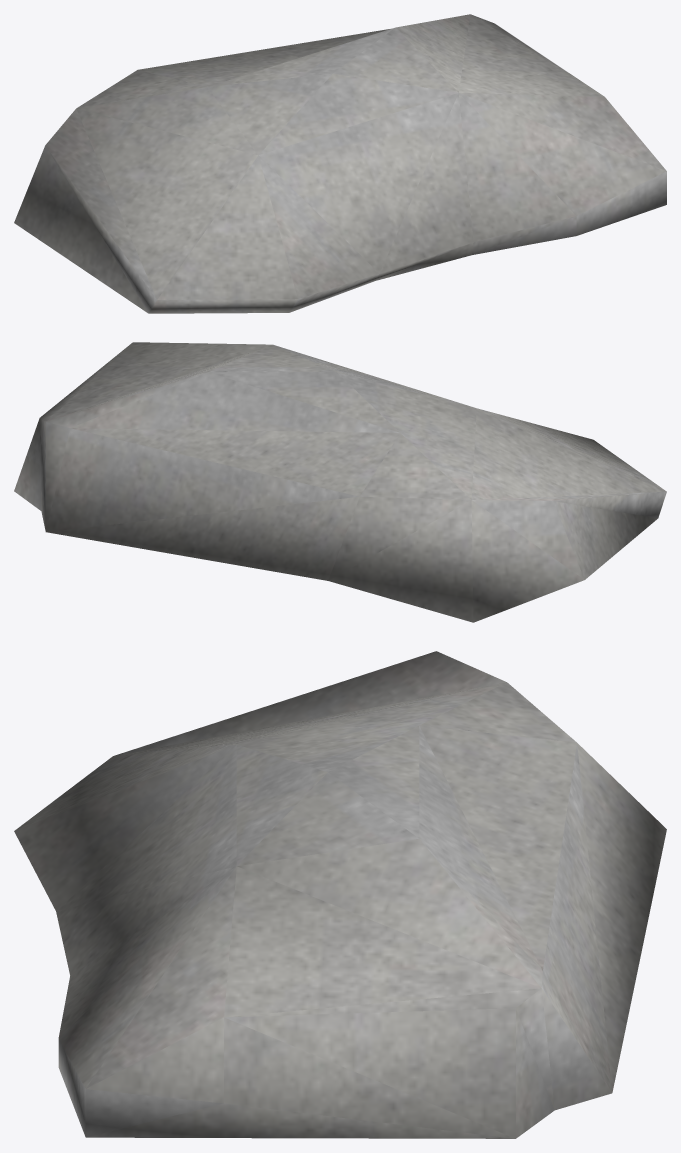
The model's file is Boulder_Medium_Gray.obj.
3 renders of one model, top to bottom at view 1: azimuth 30°, elevation 25°; view 2: azimuth 150°, elevation 25°; view 3: azimuth 270°, elevation 25°, orthographic. The views are drawn at different scales.
Parts seen in each view (by area): view 1: Mesh1 Model; view 2: Mesh1 Model; view 3: Mesh1 Model.
Boxes of the visible parts, x1,y1,x2,y2 form: Mesh1 Model: (14, 14, 666, 313); Mesh1 Model: (14, 342, 666, 622); Mesh1 Model: (14, 651, 666, 1138).
Size of the model in its own units: 39.05 by 9 by 28.17.
1 material, 1 textured.
